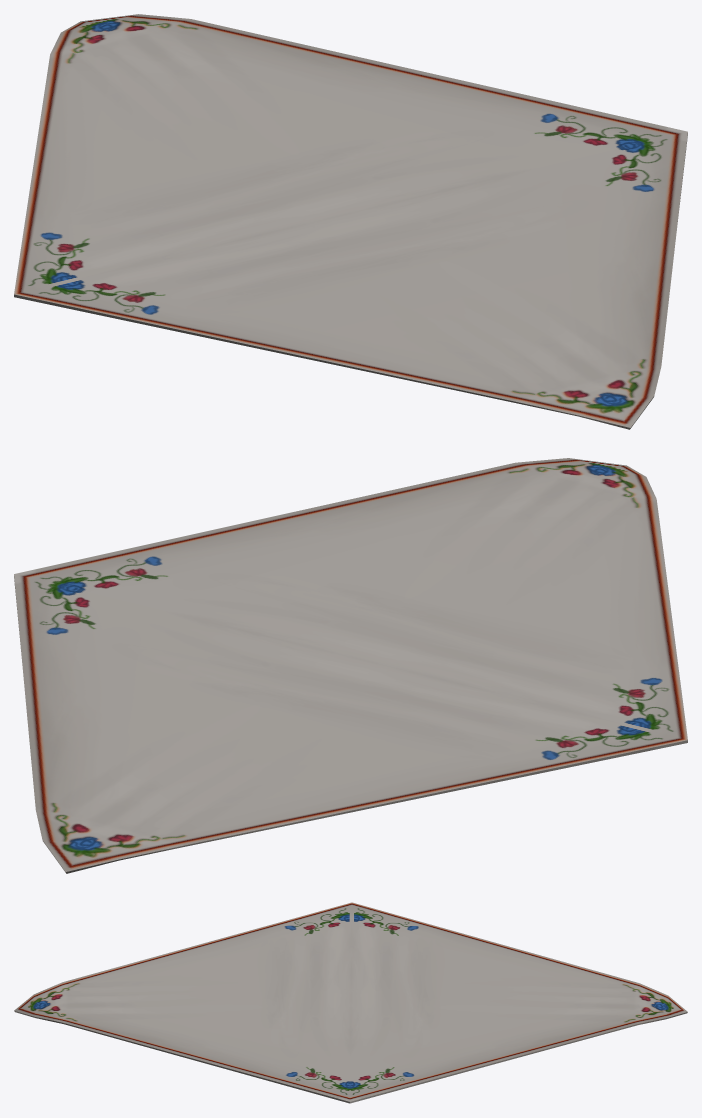
File: DiamondCloth.fbx
3 views of the same model, one above another, from view 1: azimuth 30°, elevation 25°; view 2: azimuth 150°, elevation 25°; view 3: azimuth 270°, elevation 25° (orthographic). The views are drawn at different scales.
Visible parts, largest first — view 1: DiamondCloth; view 2: DiamondCloth; view 3: DiamondCloth.
Boxes of the visible parts, x1,y1,x2,y2 form: DiamondCloth: (14, 14, 687, 429); DiamondCloth: (14, 458, 687, 873); DiamondCloth: (14, 902, 687, 1103).
Size of the model in its own units: 164 by 4.02 by 235.
